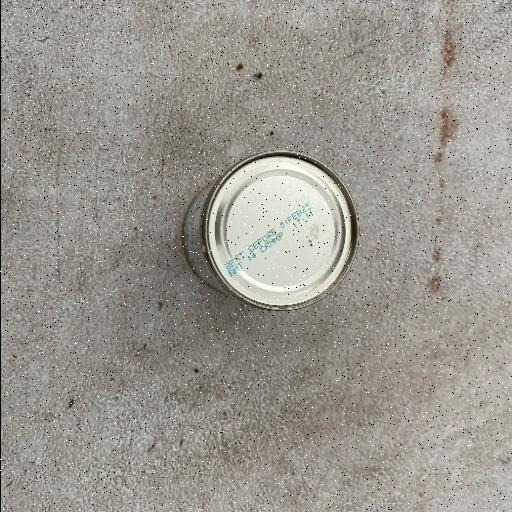Metal: (180, 148, 360, 312)
